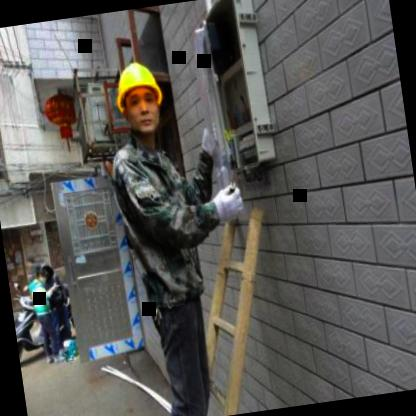helmet: (106, 52, 172, 142)
